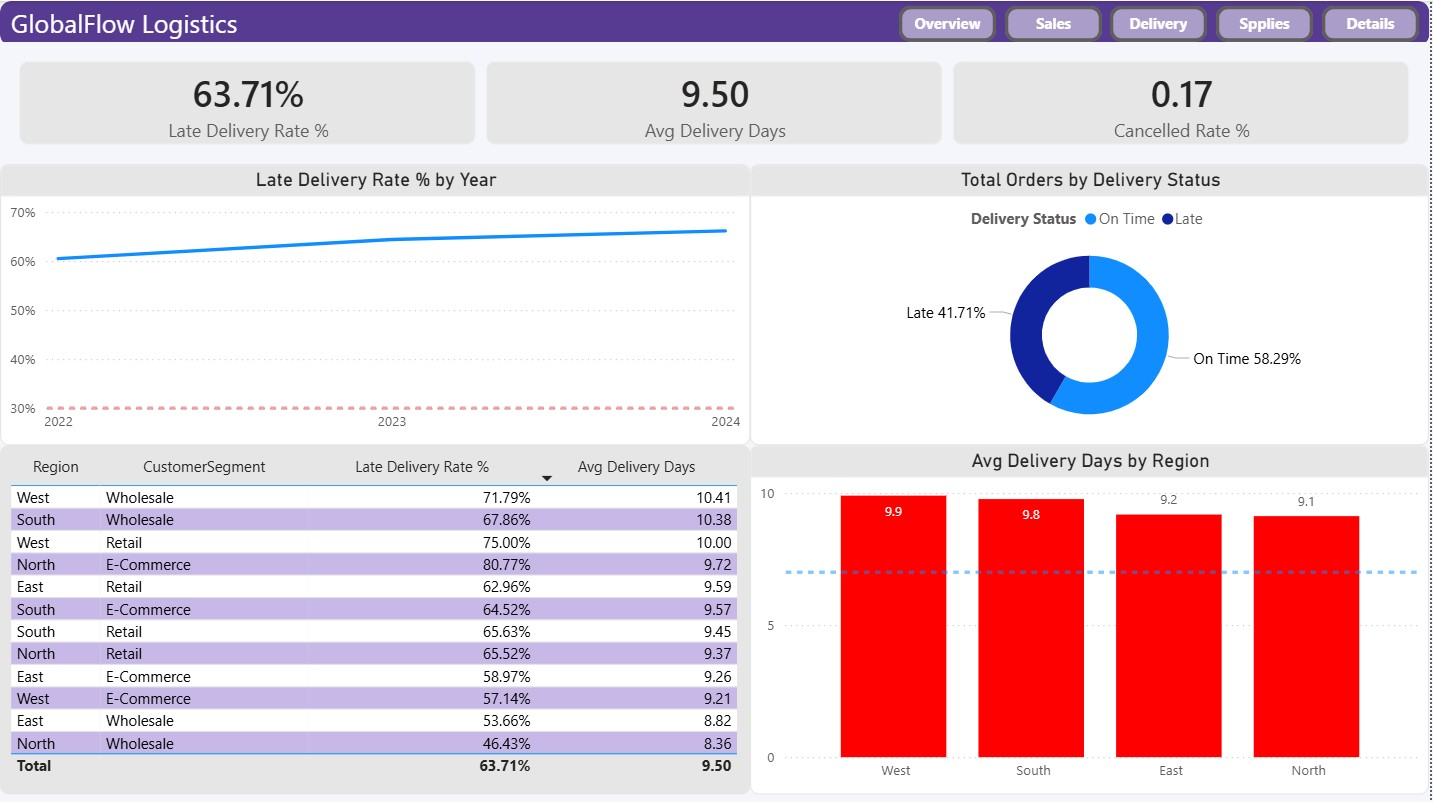

The dashboard page shown, as its layout file describes it:
{"tool":"powerbi","page":{"name":"Delivery","canvas":[1280,720],"ordinal":2},"visuals":[{"type":"shape","title":"GlobalFlow Logistics","box":[0,0,1280,40],"z":0},{"type":"actionButton","box":[805.1,4.4,86.9,31.9],"z":1000},{"type":"actionButton","box":[899.7,4.4,86.9,31.9],"z":2000},{"type":"actionButton","box":[994.3,4.4,86.9,31.9],"z":3000},{"type":"actionButton","box":[1088.9,4.4,86.9,31.9],"z":4000},{"type":"actionButton","box":[1183.7,4.4,86.9,31.9],"z":5000},{"type":"lineChart","fields":{"Category":["Calender.Year","Calender.MonthName"],"Y":["_Measures.Late Delivery Rate %"]},"box":[0,146,671.6,251.6],"z":6000},{"type":"columnChart","fields":{"Category":["Orders.Region"],"Y":["_Measures.Avg Delivery Days"]},"box":[671.6,397.6,608.1,312.5],"z":7000},{"type":"cardVisual","fields":{"Data":["_Measures.Late Delivery Rate %","_Measures.Avg Delivery Days","_Measures.Cancelled Rate %"]},"box":[0,36.7,1279.7,109.3],"z":8000},{"type":"tableEx","fields":{"Values":["Orders.Region","Orders.CustomerSegment","_Measures.Late Delivery Rate %","_Measures.Avg Delivery Days"]},"box":[0,397.6,671.6,312.5],"z":9000},{"type":"donutChart","fields":{"Category":["Orders.Delivery Status"],"Y":["_Measures.Total Orders"]},"box":[671.6,146,608.1,251.6],"z":10000}]}

Visuals, with their boxes in screenshot pixels (x1, y1, x2, y2), scaled from the page's 1280x720 canvas onto the 1433x802 screenshot:
"GlobalFlow Logistics" shape: (x1=0, y1=0, x2=1432, y2=45)
actionButton: (x1=901, y1=5, x2=999, y2=40)
actionButton: (x1=1007, y1=5, x2=1105, y2=40)
actionButton: (x1=1113, y1=5, x2=1210, y2=40)
actionButton: (x1=1219, y1=5, x2=1316, y2=40)
actionButton: (x1=1325, y1=5, x2=1422, y2=40)
lineChart - Calender.Year x Calender.MonthName: (x1=0, y1=163, x2=752, y2=443)
columnChart - Orders.Region x _Measures.Avg Delivery Days: (x1=752, y1=443, x2=1432, y2=791)
cardVisual - _Measures.Late Delivery Rate % x _Measures.Avg Delivery Days: (x1=0, y1=41, x2=1432, y2=163)
tableEx - Orders.Region x Orders.CustomerSegment: (x1=0, y1=443, x2=752, y2=791)
donutChart - Orders.Delivery Status x _Measures.Total Orders: (x1=752, y1=163, x2=1432, y2=443)
